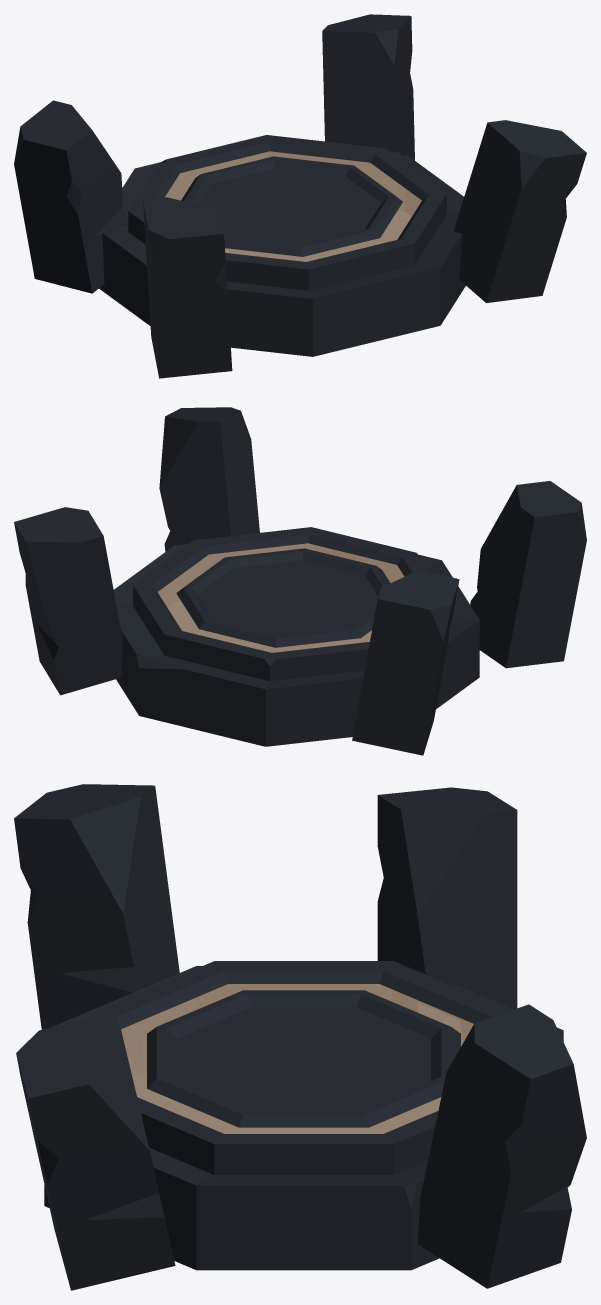
The model's file is red_join_area.gltf.
3 renders of one model, top to bottom at view 1: azimuth 30°, elevation 25°; view 2: azimuth 150°, elevation 25°; view 3: azimuth 270°, elevation 25°, orthographic. The views are drawn at different scales.
Visible parts, largest first — view 1: Circle.012; view 2: Circle.012; view 3: Circle.012.
Part boxes in pixels (x1,y1,x2,y2): Circle.012: (14,14,586,378); Circle.012: (14,407,586,755); Circle.012: (14,784,586,1290).
Size of what is drawn, in the model's own units: 7.59 by 2.95 by 6.11.
Materials: 2 (1 with a texture image).
